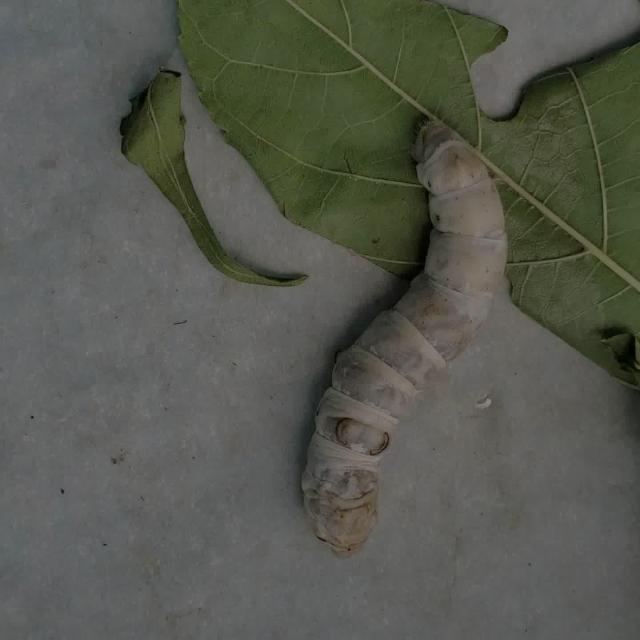Grasserie: (270, 96, 545, 582)
